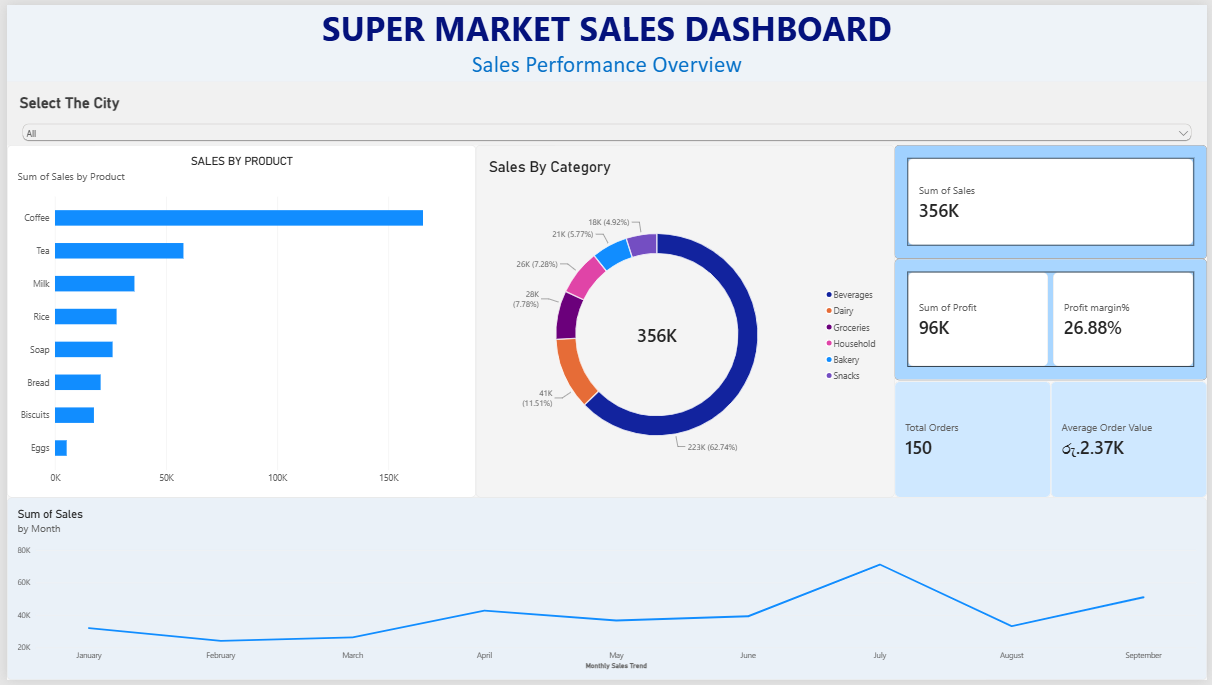

Layout of this report page (visuals, bound fields, positions):
{"tool":"powerbi","page":{"name":"Page 1","canvas":[1920,1080],"ordinal":0},"visuals":[{"type":"cardVisual","title":"TOTAL SALES","fields":{"Data":["Sum(supermarket_sales.Sales)"]},"box":[1420,224,500,182],"z":0},{"type":"cardVisual","title":"TOTAL PROFIT","fields":{"Data":["Sum(supermarket_sales.Profit)","supermarket_sales.Profit margin%"]},"box":[1420,406,500,194],"z":1000},{"type":"clusteredBarChart","title":"SALES BY PRODUCT","fields":{"Category":["supermarket_sales.Product"],"Y":["Sum(supermarket_sales.Sales)"]},"box":[0,224,750,564],"z":2000},{"type":"lineChart","fields":{"Category":["supermarket_sales.Date.Variation.Date Hierarchy.Month"],"Y":["Sum(supermarket_sales.Sales)"]},"box":[0,788,1920,292],"z":3000},{"type":"donutChart","title":"Sales By Category","fields":{"Category":["supermarket_sales.Category"],"Y":["Sum(supermarket_sales.Sales)"]},"box":[750,224,670,564],"z":4000},{"type":"textbox","box":[0,0,1920,122],"z":5000},{"type":"slicer","title":"Select The City","fields":{"Values":["supermarket_sales.City"]},"box":[0,122,1920,102],"z":6000},{"type":"cardVisual","fields":{"Data":["supermarket_sales.Total Orders"]},"box":[1420,602,250,186],"z":8000},{"type":"cardVisual","fields":{"Data":["supermarket_sales.Average Order Value"]},"box":[1670,602,250,186],"z":9000}]}

Visuals, with their boxes in screenshot pixels (x1, y1, x2, y2), scaled from the page's 1920x1080 canvas onto the 1212x685 screenshot:
"TOTAL SALES" cardVisual: left=896, top=142, right=1211, bottom=258
"TOTAL PROFIT" cardVisual: left=896, top=258, right=1211, bottom=381
"SALES BY PRODUCT" clusteredBarChart: left=0, top=142, right=473, bottom=500
lineChart - supermarket_sales.Date.Variation.Date Hierarchy.Month x Sum(supermarket_sales.Sales): left=0, top=500, right=1211, bottom=684
"Sales By Category" donutChart: left=473, top=142, right=896, bottom=500
textbox: left=0, top=0, right=1211, bottom=77
"Select The City" slicer: left=0, top=77, right=1211, bottom=142
cardVisual - supermarket_sales.Total Orders: left=896, top=382, right=1054, bottom=500
cardVisual - supermarket_sales.Average Order Value: left=1054, top=382, right=1211, bottom=500
